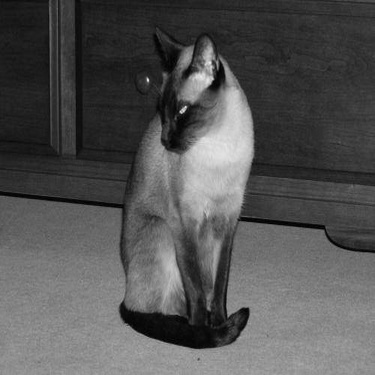cat: (99, 27, 275, 355)
